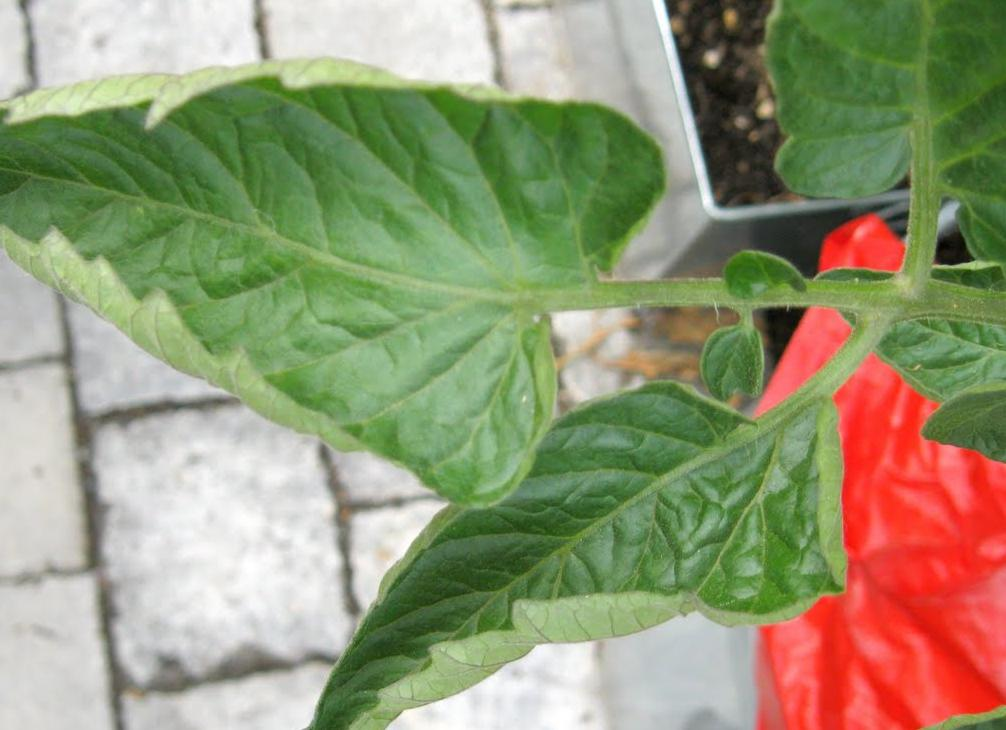Tomato leaf: (0, 72, 668, 508), (262, 366, 868, 730), (757, 0, 1006, 285)
